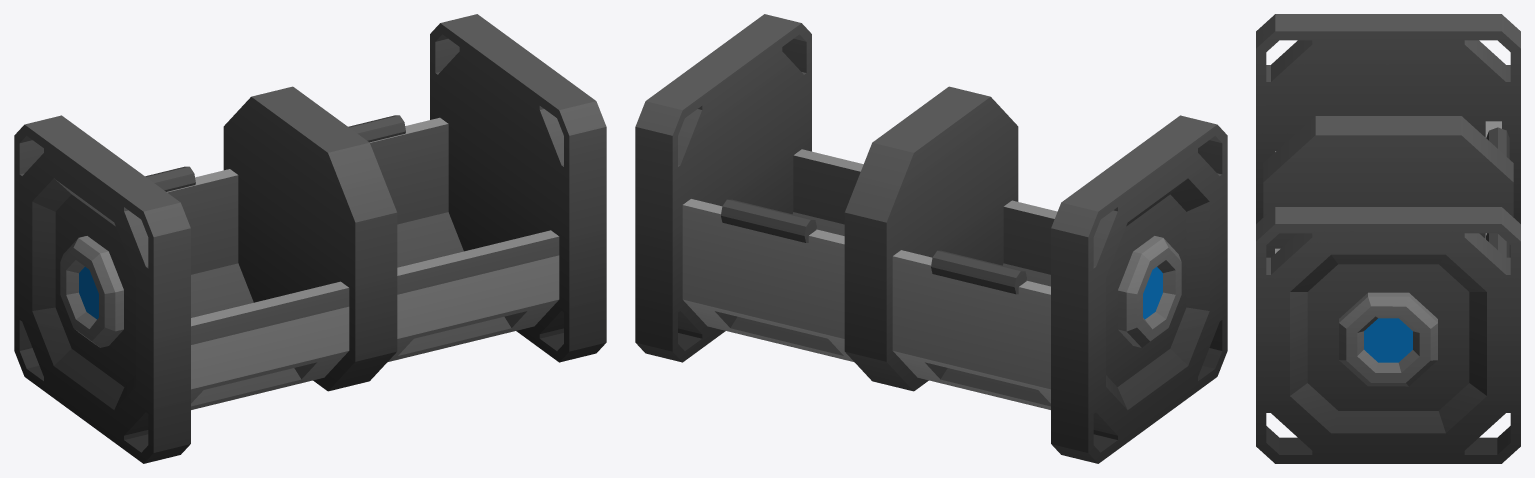
Rendered from Crate_008.fbx.
The picture shows the model from 3 angles, left to right: view 1: azimuth 30°, elevation 25°; view 2: azimuth 150°, elevation 25°; view 3: azimuth 270°, elevation 25°; orthographic projection. The views are drawn at different scales.
Parts seen in each view (by area): view 1: Crate_008; view 2: Crate_008; view 3: Crate_008.
Part boxes in pixels (box(x1,y1,x2,y2)): Crate_008: box(14, 14, 606, 463); Crate_008: box(635, 14, 1227, 463); Crate_008: box(1256, 14, 1520, 463).
Bounding box in the file's own units: 126 × 66.58 × 66.58.
